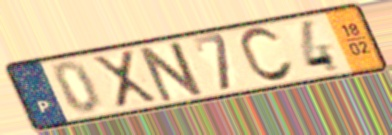0: (52, 59, 105, 116)
4: (298, 18, 344, 75)
7: (189, 31, 236, 95)
C: (236, 25, 297, 85)
N: (137, 38, 209, 105)
X: (89, 48, 162, 112)
